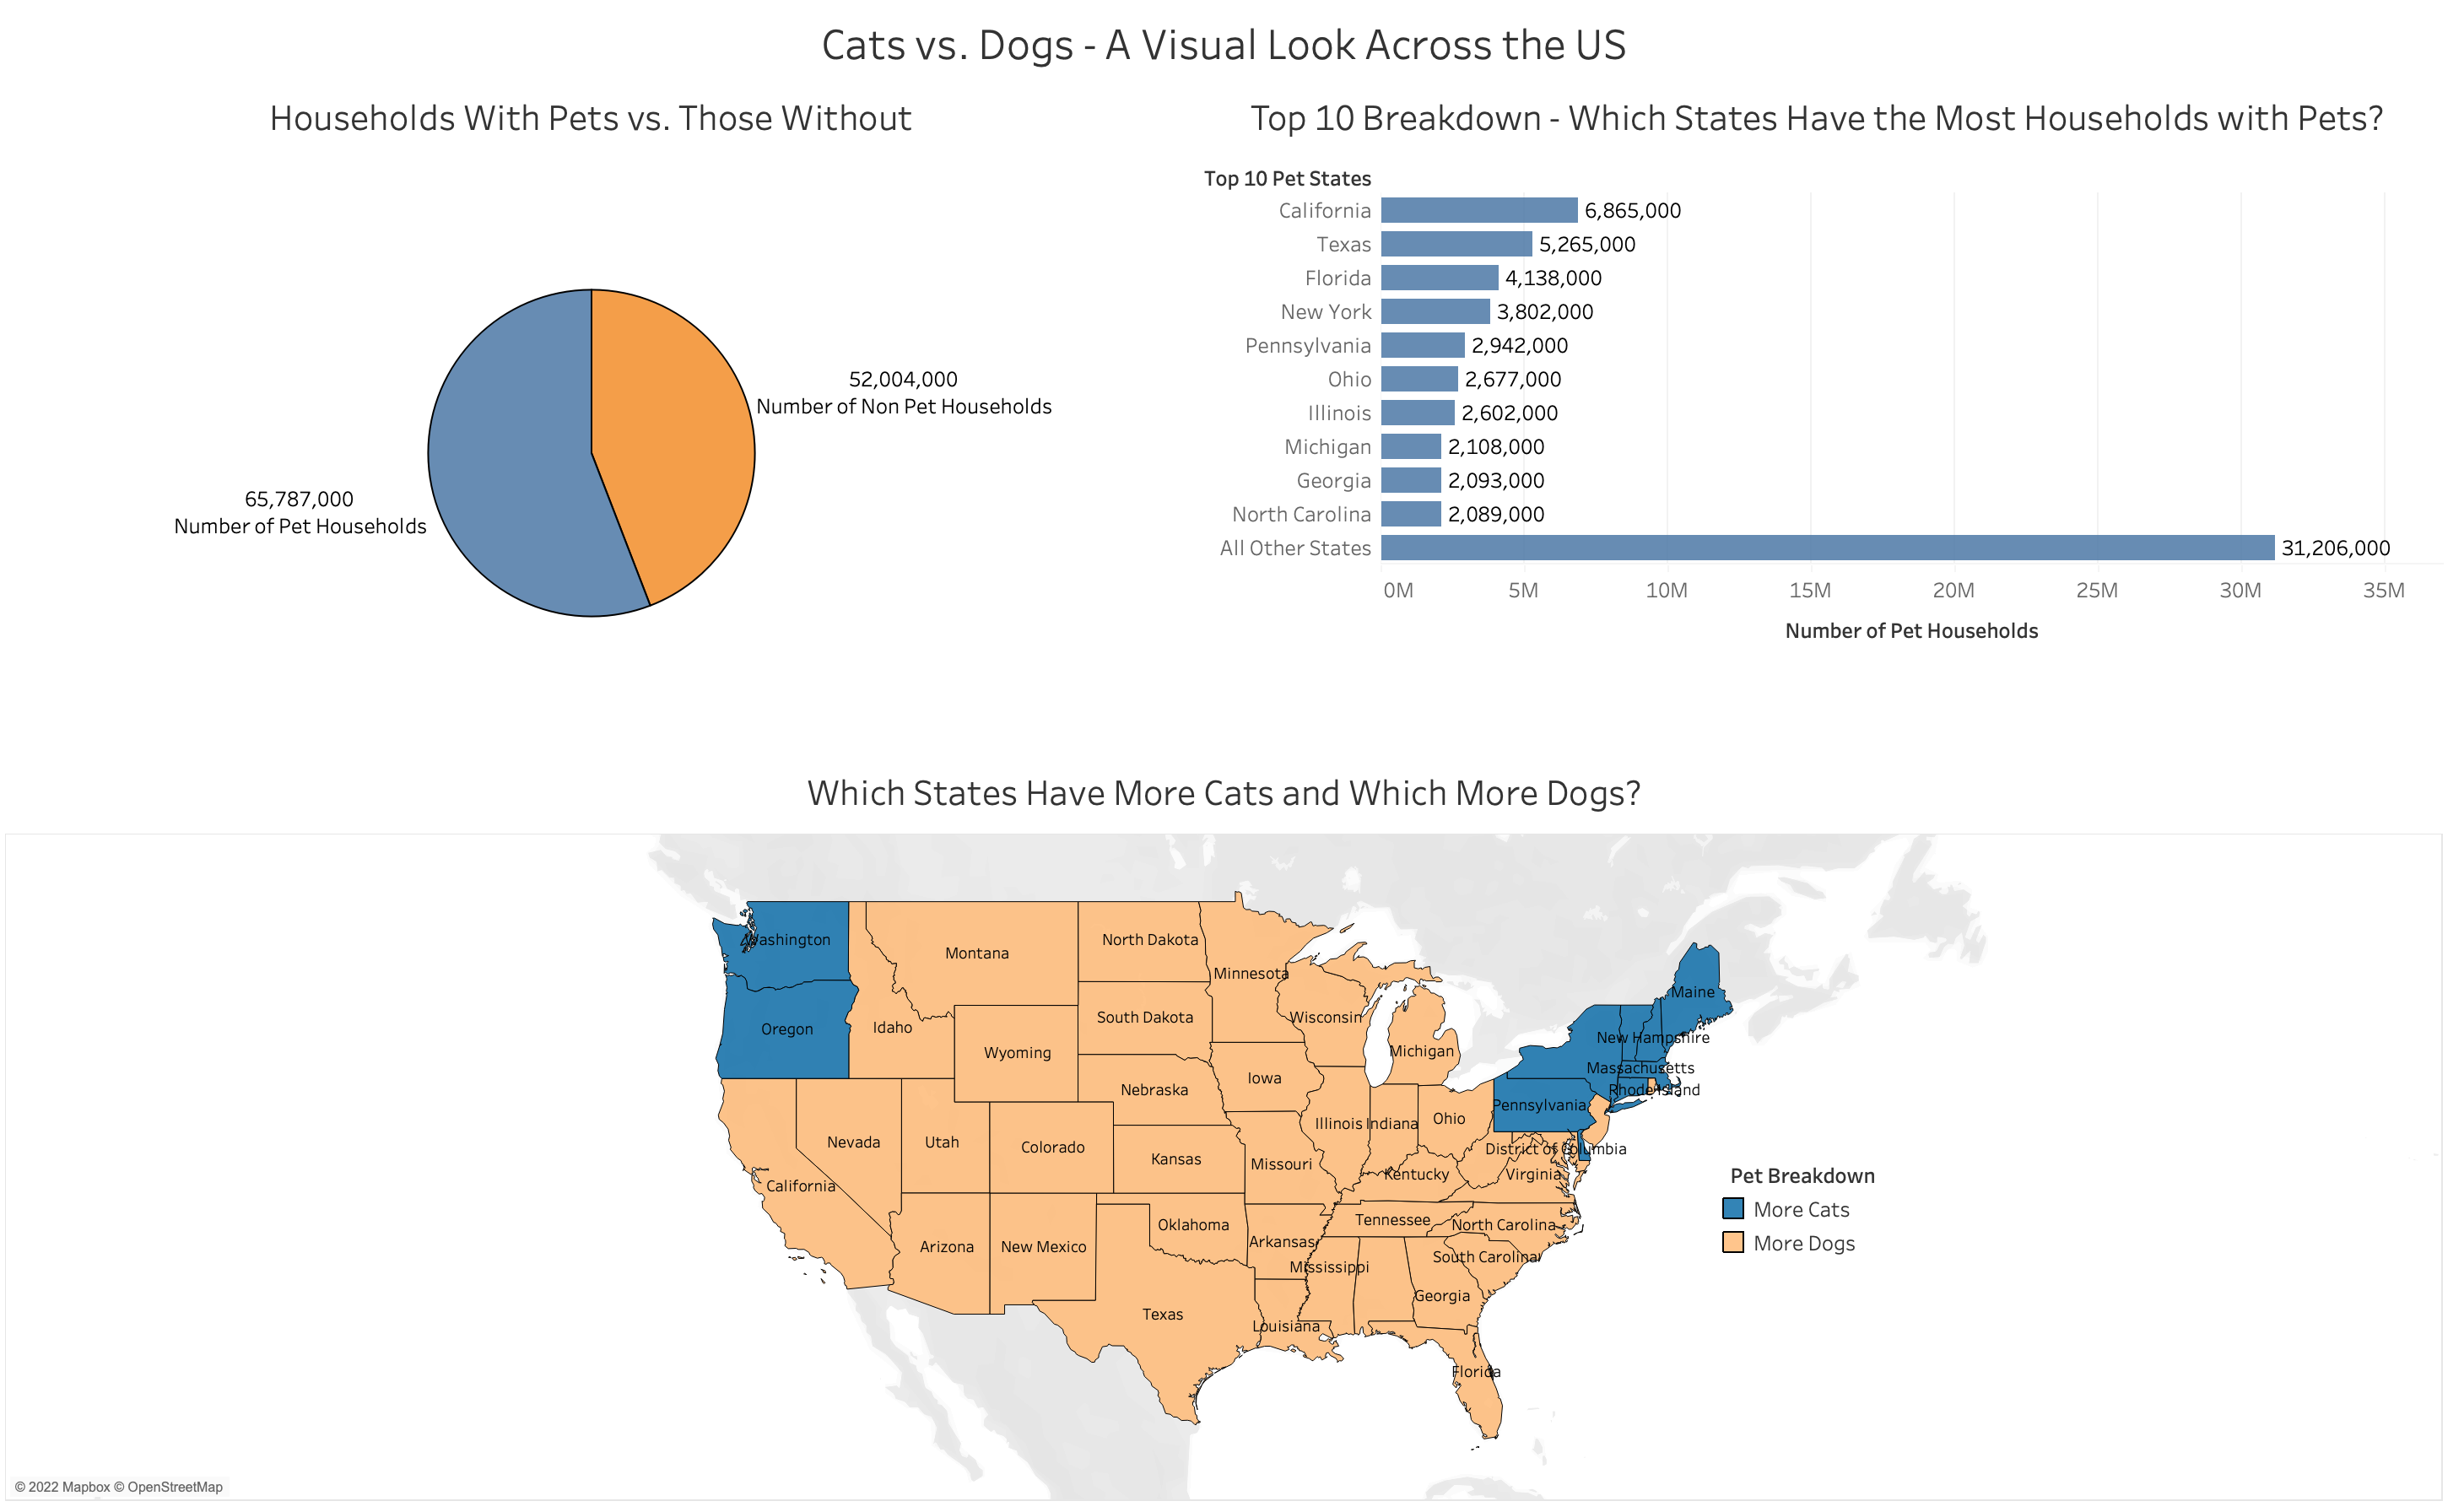

This screenshot's page, from the dashboard's own definition file:
{"tool":"tableau","page":{"name":"Final Dashboard","canvas":[1000,1000],"units":"permille","ordinal":0},"visuals":[{"type":"worksheet","box":[0,0,1000,1000]},{"type":"worksheet","param":"vert","box":[5.4,8.3,989.1,983.3]},{"type":"worksheet","box":[5.4,8.3,989.1,43.8]},{"type":"worksheet","param":"horz","box":[5.4,52.2,989.1,939.5]},{"type":"worksheet","box":[5.4,52.2,989.1,939.5]},{"type":"worksheet","title":"Pet Ownership Breakdown","mark":"Pie","box":[5.4,52.2,478.9,443.8]},{"type":"worksheet","title":"Top 10 Pet States","mark":"Automatic","rows":["Calculation_3190096673581240328"],"cols":["Number of Pet Households"],"box":[484.4,52.2,510.2,443.8]},{"type":"worksheet","title":"Pet Ownership Map","mark":"Multipolygon","box":[5.4,495.9,989.1,495.7]},{"type":"worksheet","title":"Pet Ownership Map","mark":"Multipolygon","param":"[federated.08lfg7c066ng5112h0km9099fgcc].[none:More Cats (copy)_3190096673561563","box":[698.4,763.1,70,82.5]}]}

Visuals, with their boxes on the dashboard's canvas, which has no fixed pixel size, in thousandths of its width and height (x1, y1, x2, y2). These are canvas units, not pixel positions in the 2464x1512 screenshot, which may show the page scaled, cropped or inside an application window:
worksheet: [left=0, top=0, right=1000, bottom=1000]
worksheet: [left=5, top=8, right=994, bottom=992]
worksheet: [left=5, top=8, right=994, bottom=52]
worksheet: [left=5, top=52, right=994, bottom=992]
worksheet: [left=5, top=52, right=994, bottom=992]
"Pet Ownership Breakdown" worksheet (Pie marks): [left=5, top=52, right=484, bottom=496]
"Top 10 Pet States" worksheet: [left=484, top=52, right=995, bottom=496]
"Pet Ownership Map" worksheet (Multipolygon marks): [left=5, top=496, right=994, bottom=992]
"Pet Ownership Map" worksheet (Multipolygon marks): [left=698, top=763, right=768, bottom=846]
